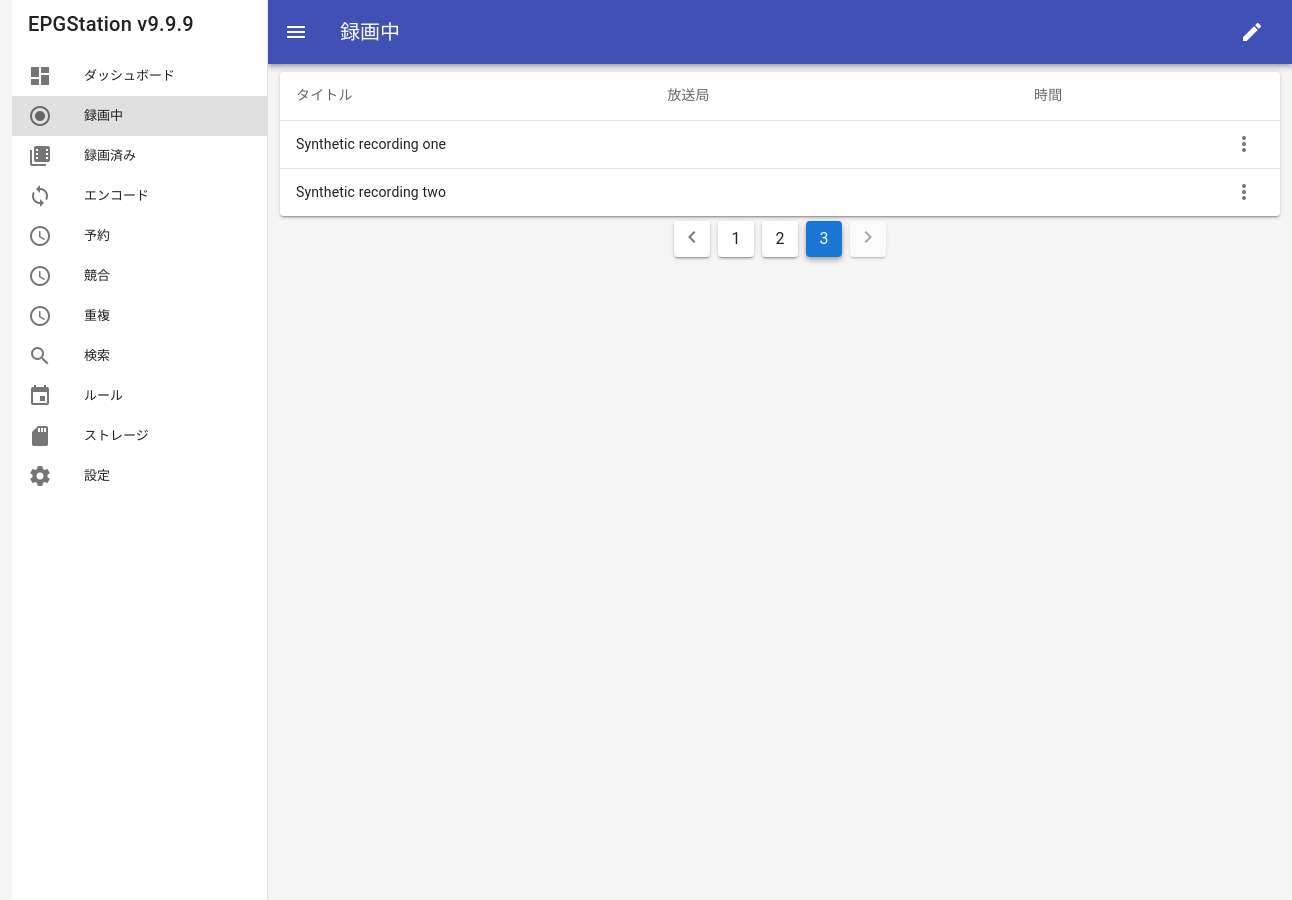
Recording menu actions › [AC 1.23] protect action shows a failure snackbar when the API reports an error
What coordinates should you click on to do the following:
click the button named "録画メニュー: Synthetic recording one"
I would click on:
 (1244, 144)
Its box is [1224, 124, 1264, 164].
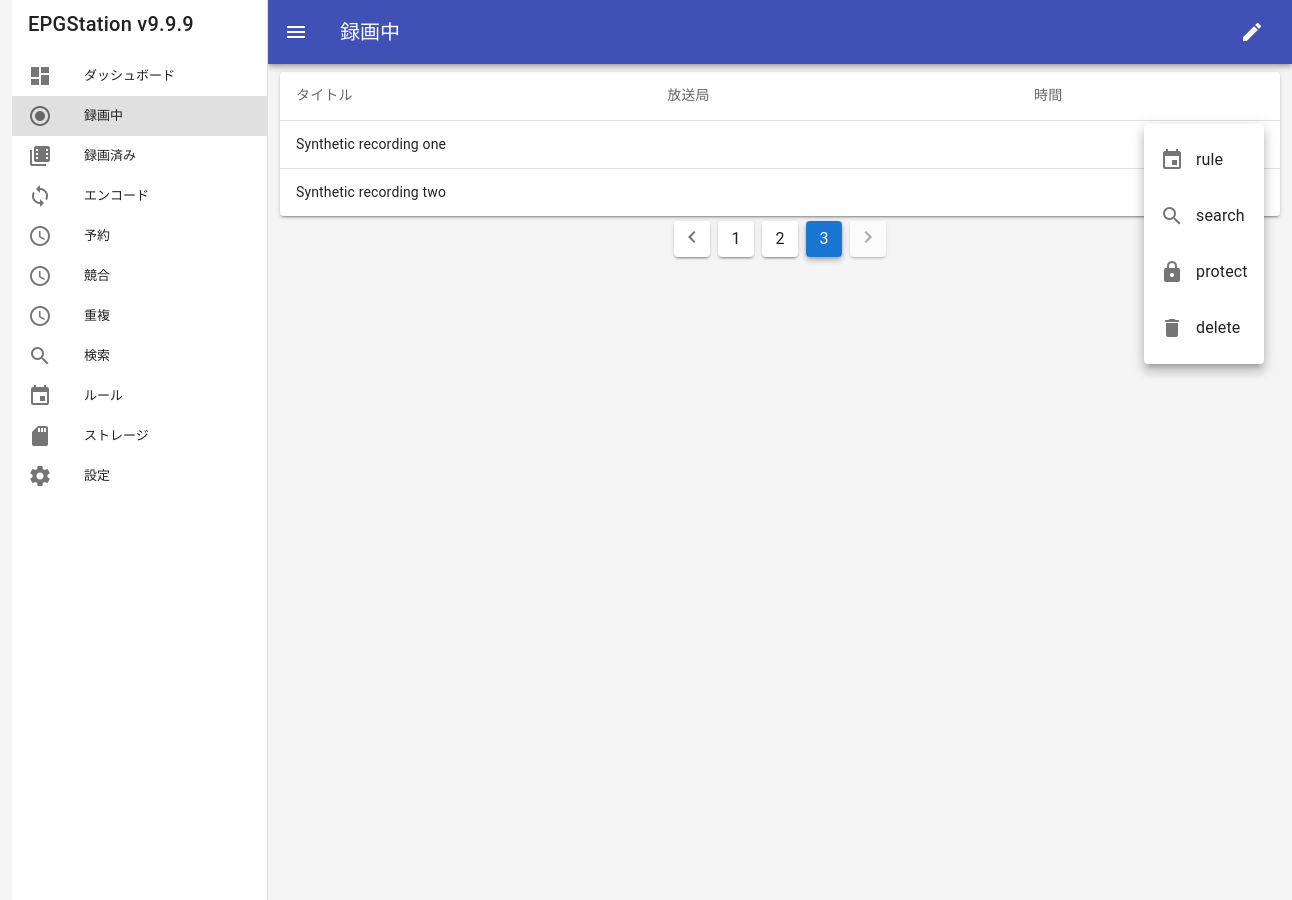
What coordinates should you click on to do the following:
click the menu item "protect"
I would click on:
 (1204, 272)
Its box is [1160, 260, 1248, 284].
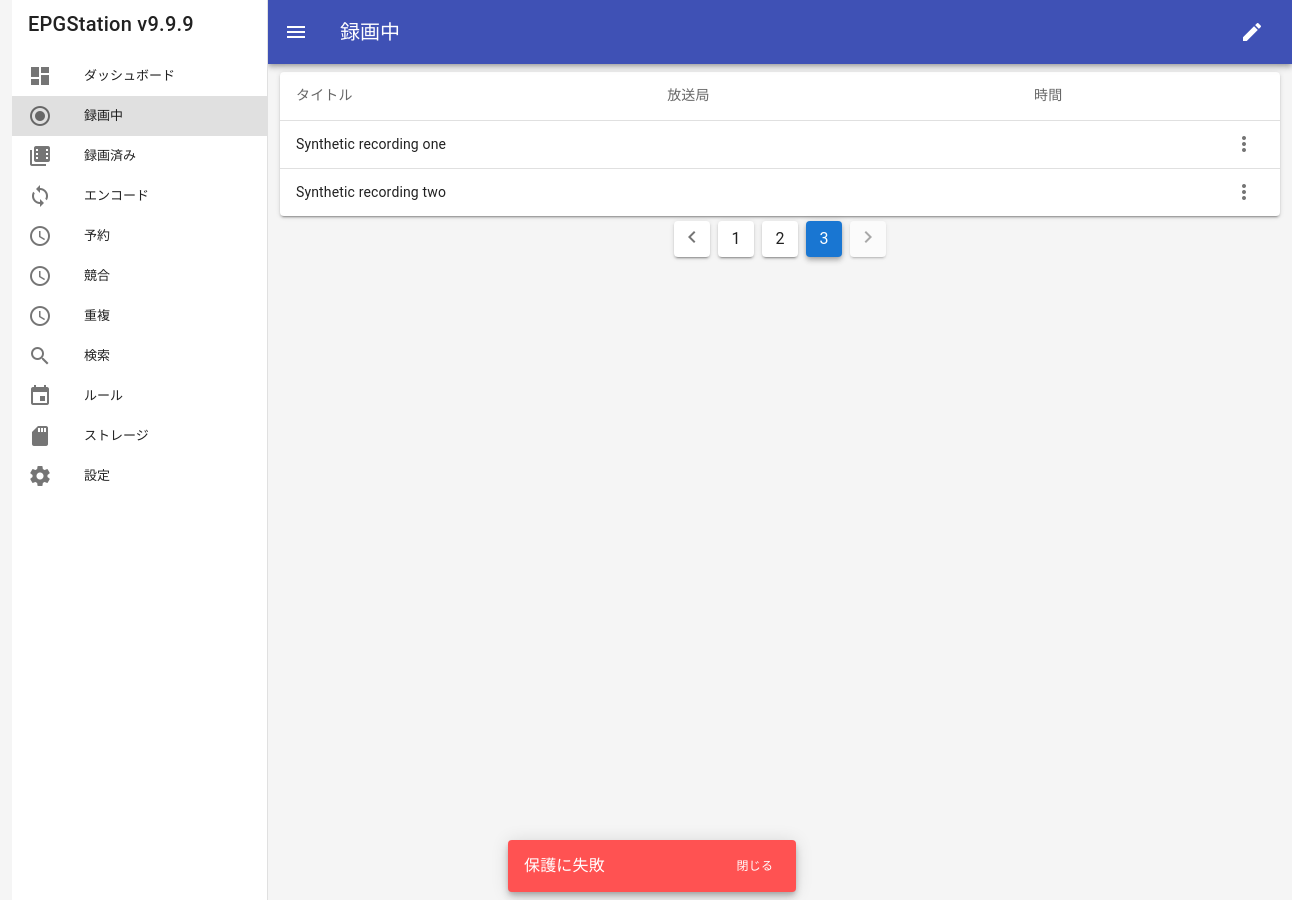
Check: the text "保護に失敗" is shown, box [524, 856, 605, 875]
